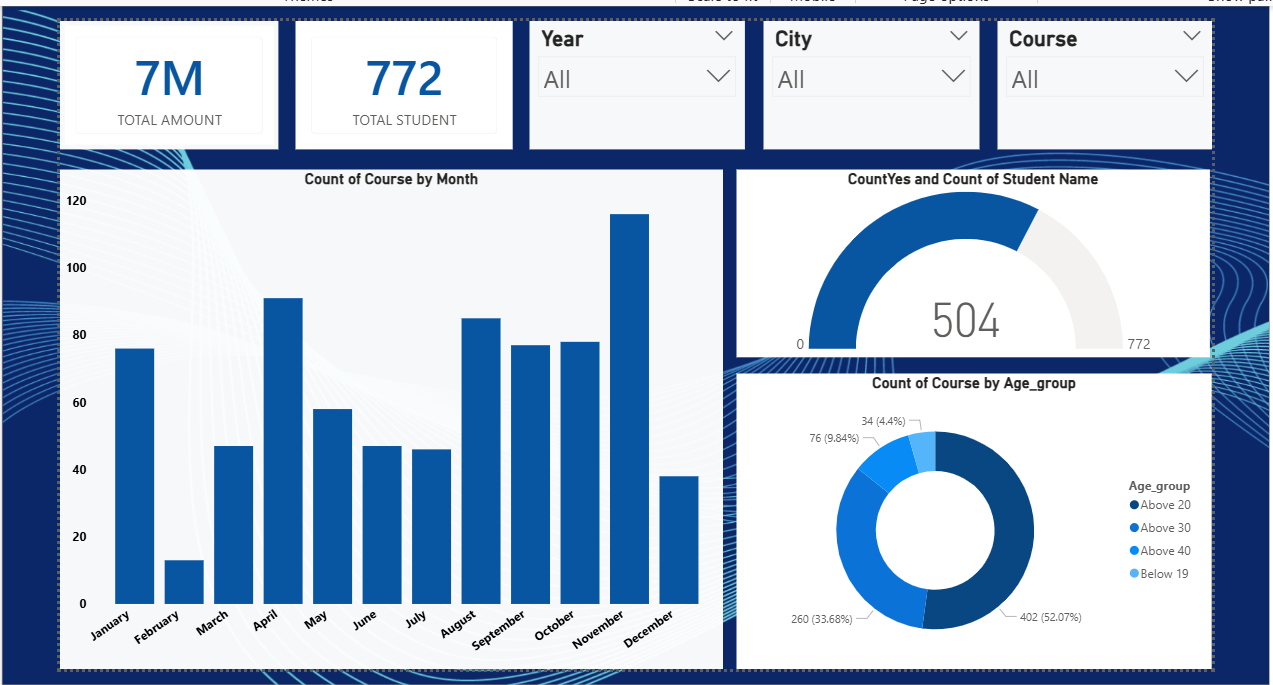

What the dashboard file says about the page in this screenshot:
{"tool":"powerbi","page":{"name":"Page 1","canvas":[1280,720],"ordinal":0},"visuals":[{"type":"columnChart","fields":{"Category":["Student Course Details.Joined_date.Variation.Date Hierarchy.Month"],"Y":["CountNonNull(Student Course Details.Course)"]},"box":[0,165.2,736.7,555.4],"z":0},{"type":"donutChart","fields":{"Y":["CountNonNull(Student Course Details.Course)"],"Series":["Student Course Details.Age_group"]},"box":[751.3,391.9,527.9,328.7],"z":1000},{"type":"cardVisual","fields":{"Data":["Sum(Student Course Details.Fees)"]},"box":[0,0,242.9,142.5],"z":2000},{"type":"cardVisual","fields":{"Data":["Count(Student Course Details.Student_name)"]},"box":[262.3,0,241.3,142.5],"z":3000},{"type":"gauge","fields":{"Y":["Personal_details.CountYes"],"MaxValue":["CountNonNull(Personal_details.Student Name)"]},"box":[751.3,165.2,526.2,208.9],"z":4000},{"type":"slicer","fields":{"Values":["Student Course Details.Joined_date.Variation.Date Hierarchy.Year"]},"box":[521.4,0,239,142.5],"z":4001},{"type":"slicer","fields":{"Values":["Student Course Details.Course"]},"box":[1040.9,0,239.1,142.7],"z":4002},{"type":"slicer","fields":{"Values":["Personal_details.City"]},"box":[781.8,0,240,142.7],"z":4003}]}

Visuals, with their boxes in screenshot pixels (x1, y1, x2, y2):
columnChart - Student Course Details.Joined_date.Variation.Date Hierarchy.Month x CountNonNull(Student Course Details.Course): 53, 166, 721, 670
donutChart - CountNonNull(Student Course Details.Course) x Student Course Details.Age_group: 734, 372, 1213, 670
cardVisual - Sum(Student Course Details.Fees): 53, 17, 273, 146
cardVisual - Count(Student Course Details.Student_name): 291, 17, 510, 146
gauge - Personal_details.CountYes x CountNonNull(Personal_details.Student Name): 734, 166, 1211, 356
slicer - Student Course Details.Joined_date.Variation.Date Hierarchy.Year: 526, 17, 742, 146
slicer - Student Course Details.Course: 997, 17, 1213, 146
slicer - Personal_details.City: 762, 17, 979, 146
